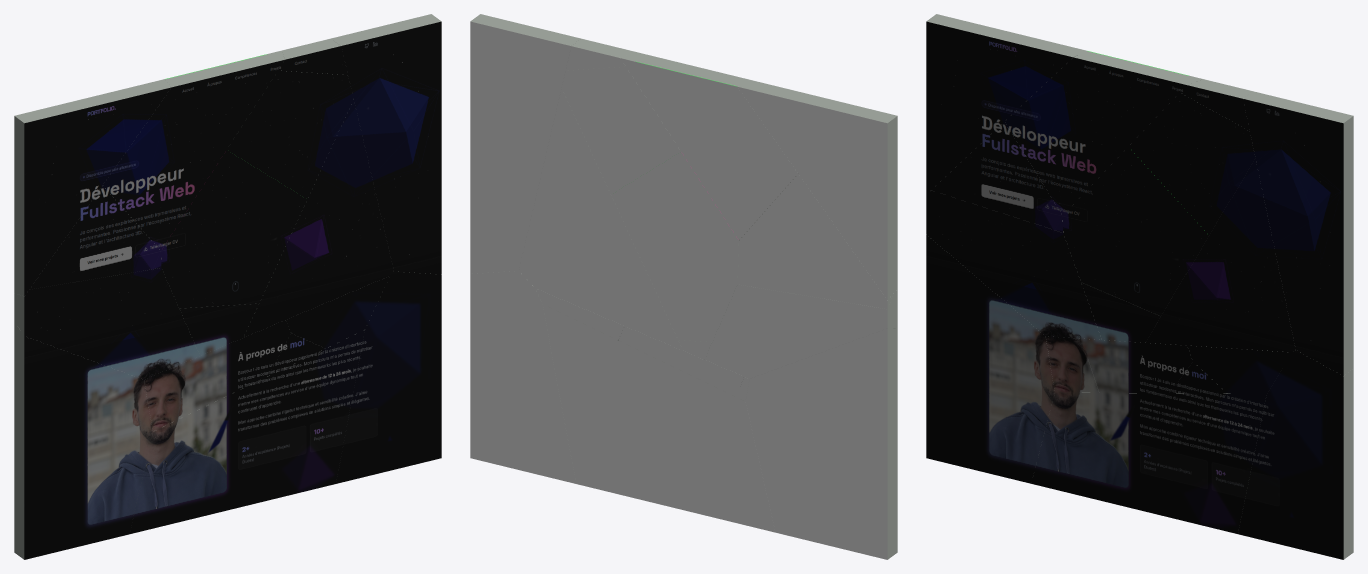
File: TJS_CIP3D_Model.glb
The picture shows the model from 3 angles, left to right: view 1: azimuth 30°, elevation 25°; view 2: azimuth 150°, elevation 25°; view 3: azimuth 330°, elevation 25°; orthographic projection.
Parts seen in each view (by area): view 1: WallOuter, Wall_Moving_Cell_06, Wall_Moving_Cell_09, Wall_Moving_Cell_07, Wall_Moving_Cell_05, Wall_Moving_Cell_13, Wall_Moving_Cell_15, Wall_Moving_Cell_10, Wall_Moving_Cell_12, Wall_Moving_Cell_14; view 2: WallOuter, Wall_Moving_Cell_09, Wall_Moving_Cell_06, Wall_Moving_Cell_05, Wall_Moving_Cell_07, Wall_Moving_Cell_13, Wall_Moving_Cell_15; view 3: WallOuter, Wall_Moving_Cell_06, Wall_Moving_Cell_09, Wall_Moving_Cell_07, Wall_Moving_Cell_05, Wall_Moving_Cell_13, Wall_Moving_Cell_15, Wall_Moving_Cell_10, Wall_Moving_Cell_12, Wall_Moving_Cell_14.
Part boxes in pixels (x1,y1,x2,y2): WallOuter: [14, 14, 441, 559]; Wall_Moving_Cell_06: [161, 150, 307, 308]; Wall_Moving_Cell_09: [243, 99, 393, 337]; Wall_Moving_Cell_07: [227, 70, 353, 199]; Wall_Moving_Cell_05: [14, 185, 161, 301]; Wall_Moving_Cell_13: [179, 320, 291, 409]; Wall_Moving_Cell_15: [285, 276, 389, 348]; Wall_Moving_Cell_10: [179, 303, 258, 355]; Wall_Moving_Cell_12: [144, 365, 197, 431]; Wall_Moving_Cell_14: [268, 333, 325, 375]; WallOuter: [470, 14, 897, 559]; Wall_Moving_Cell_09: [519, 88, 682, 350]; Wall_Moving_Cell_06: [611, 152, 738, 341]; Wall_Moving_Cell_05: [737, 174, 892, 309]; Wall_Moving_Cell_07: [561, 66, 680, 194]; Wall_Moving_Cell_13: [618, 326, 743, 396]; Wall_Moving_Cell_15: [535, 288, 624, 339]; WallOuter: [926, 14, 1353, 559]; Wall_Moving_Cell_06: [1062, 147, 1208, 316]; Wall_Moving_Cell_09: [1145, 158, 1295, 352]; Wall_Moving_Cell_07: [1128, 93, 1255, 235]; Wall_Moving_Cell_05: [931, 122, 1063, 232]; Wall_Moving_Cell_13: [1081, 338, 1192, 393]; Wall_Moving_Cell_15: [1187, 345, 1291, 393]; Wall_Moving_Cell_10: [1081, 282, 1160, 342]; Wall_Moving_Cell_12: [1045, 336, 1098, 392]; Wall_Moving_Cell_14: [1170, 362, 1226, 393].
Size of the model in its own units: 18.2 by 18.2 by 0.7746.
Materials: 3 (2 with a texture image).
